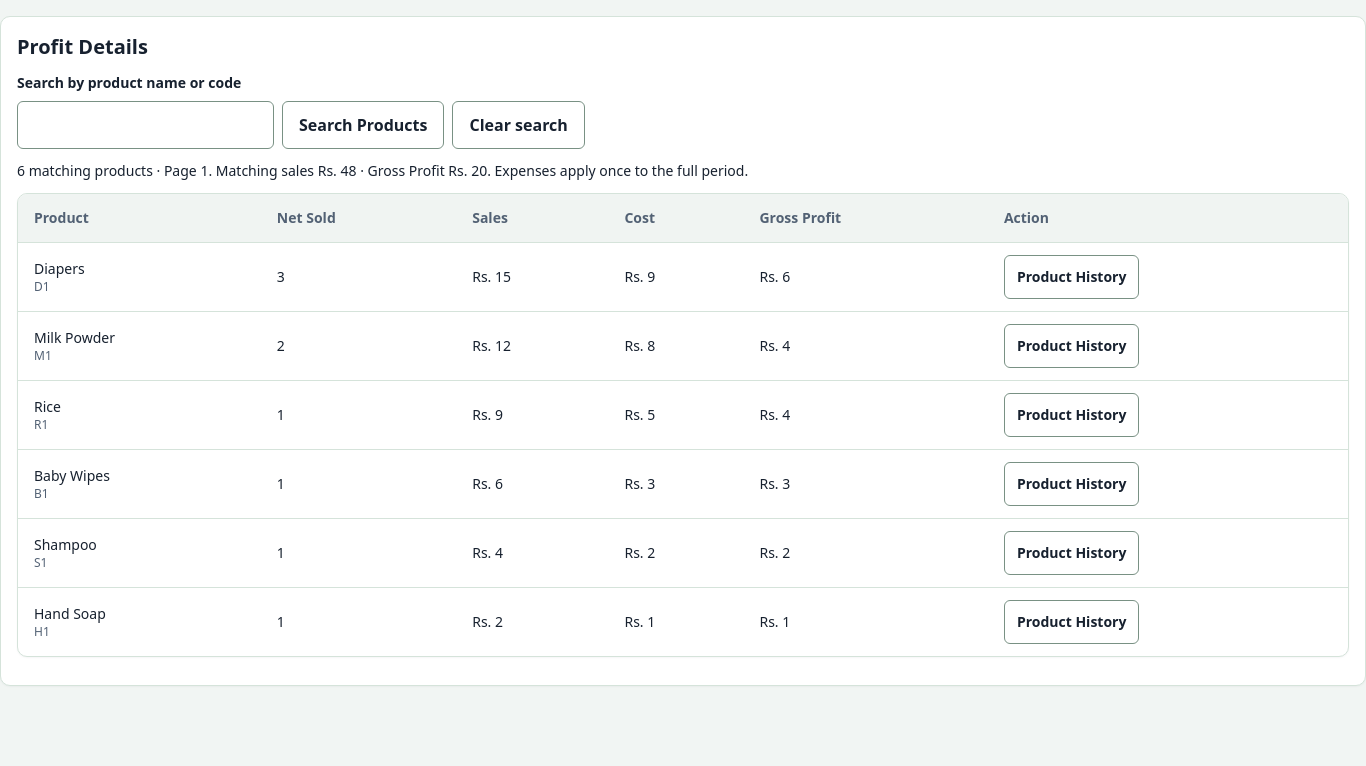
saved financial report presentation › preserves the shared product report search and history behavior for other callers
Check: the column heading "Product" is shown, box [18,194,261,242]
Check: the column heading "Net Sold" is shown, box [261,194,456,242]
Type "Milk" into the search field labelled "Search by product name or code" at (146, 125), box [17,101,274,149]
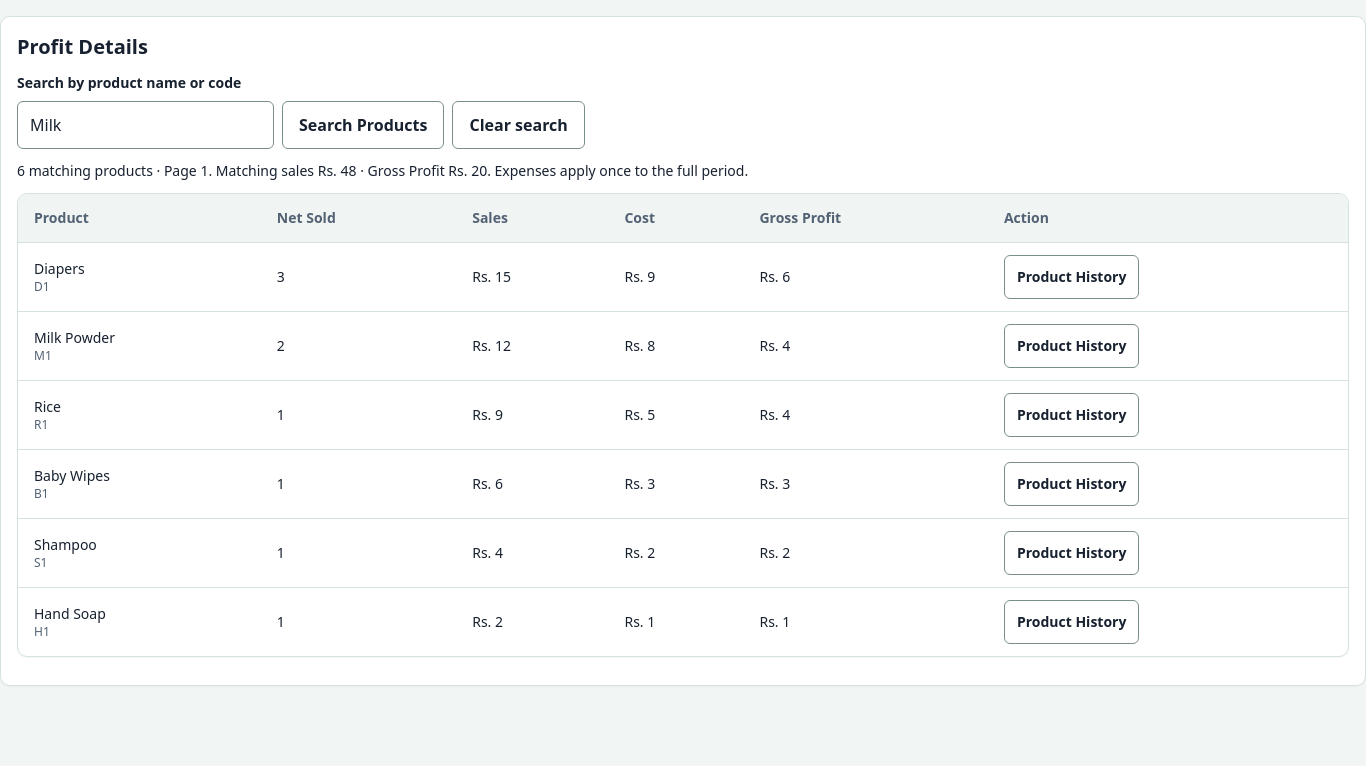
Click the button "Search Products" at (363, 125), box [282,101,444,149]
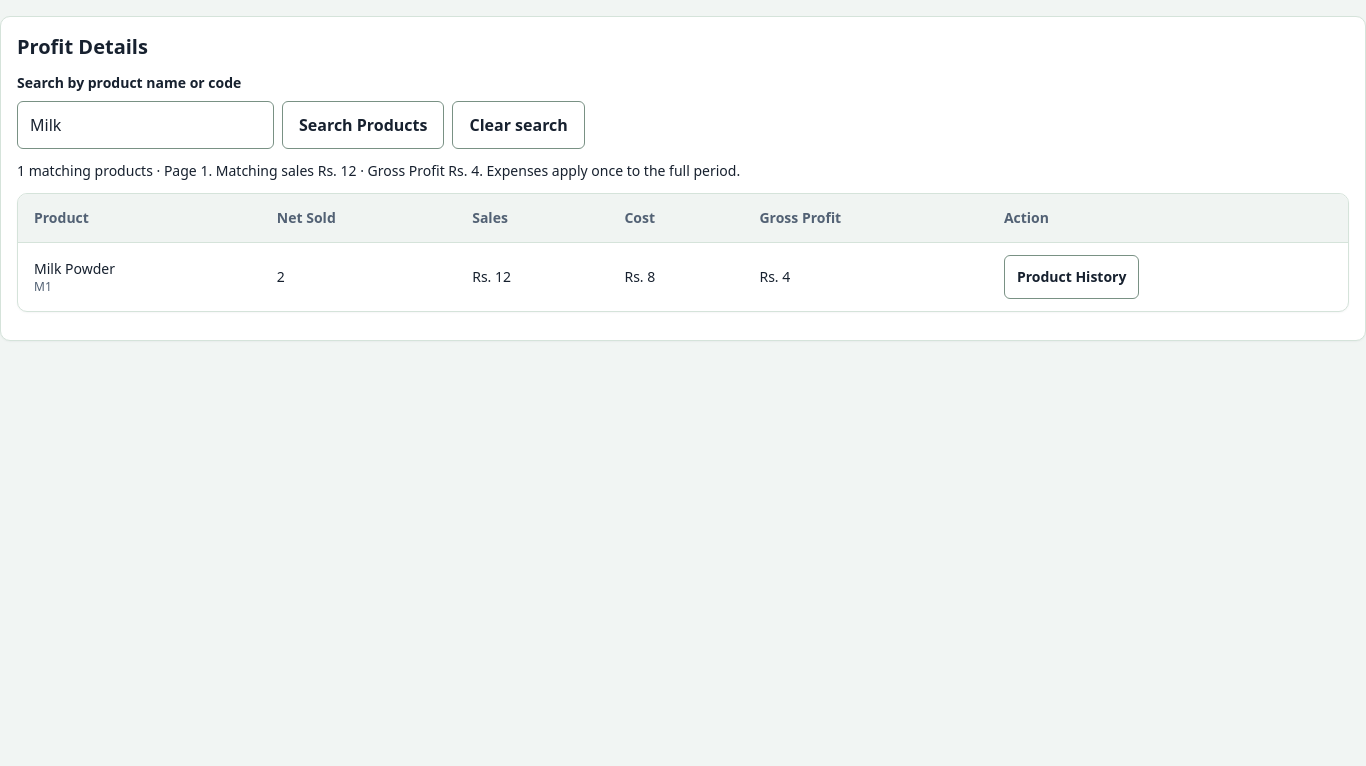
Check: the text "Milk Powder" is shown, box [34,258,115,278]
Click the button "Clear search" at (519, 125), box [452,101,585,149]
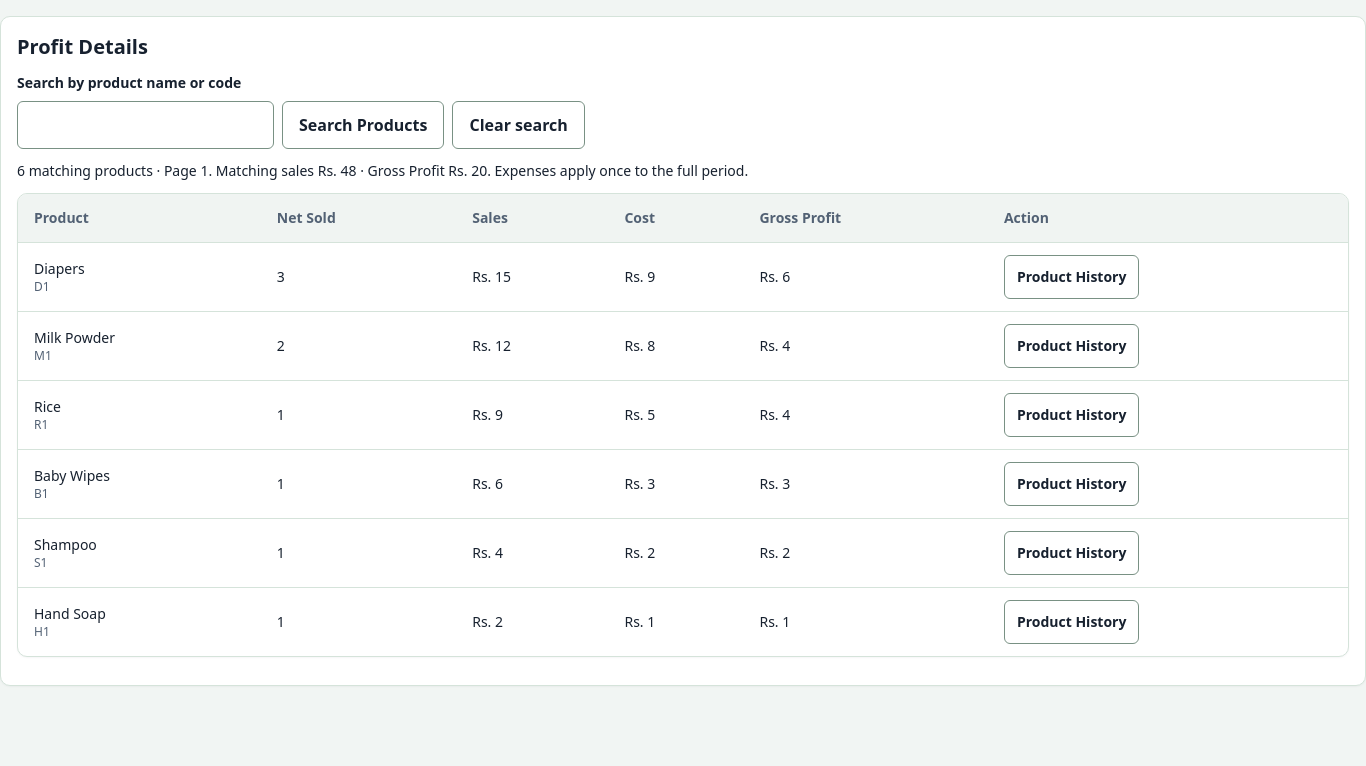
Check: the text "Diapers" is shown, box [34,258,85,278]
Click the button "Product History" in the row of "Diapers" at (1072, 276), box [1004,254,1139,298]
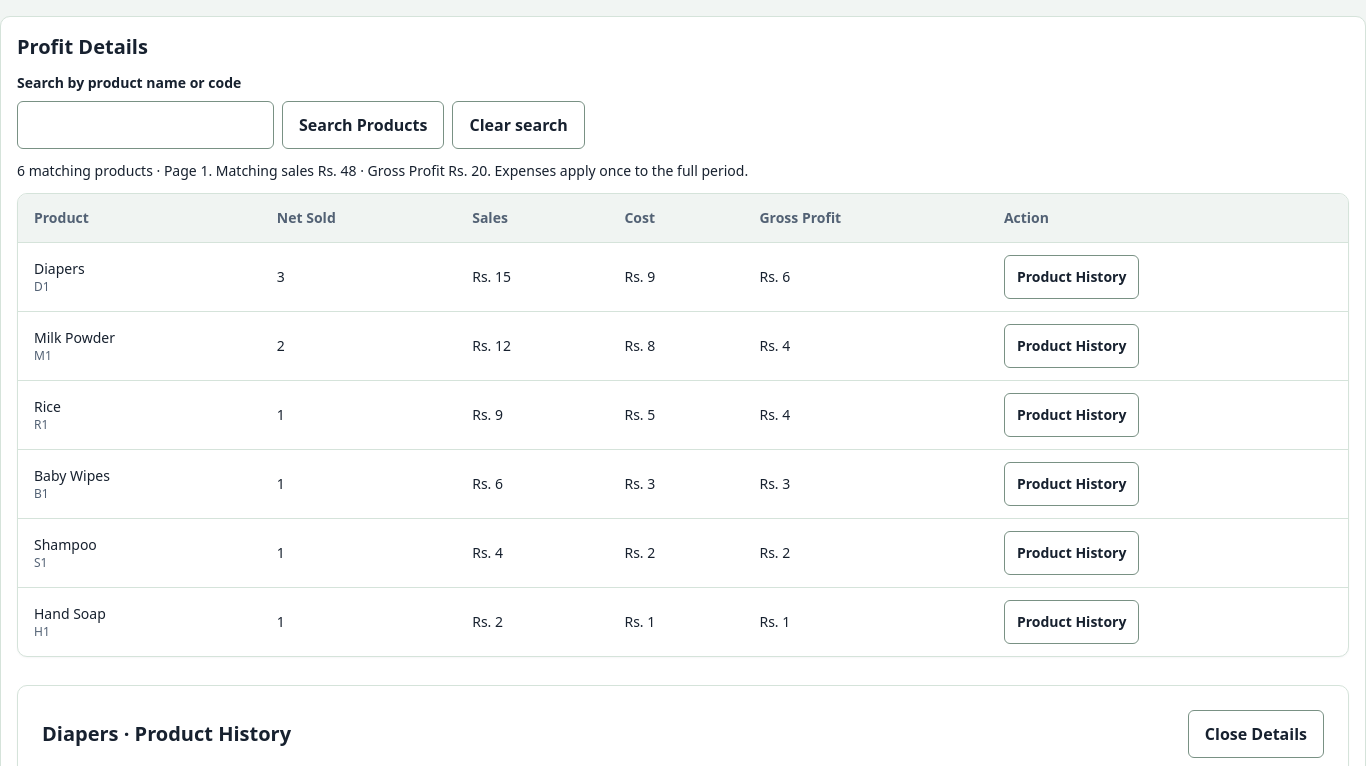
Check: the heading "Diapers · Product History" is shown, box [42,720,291,748]
